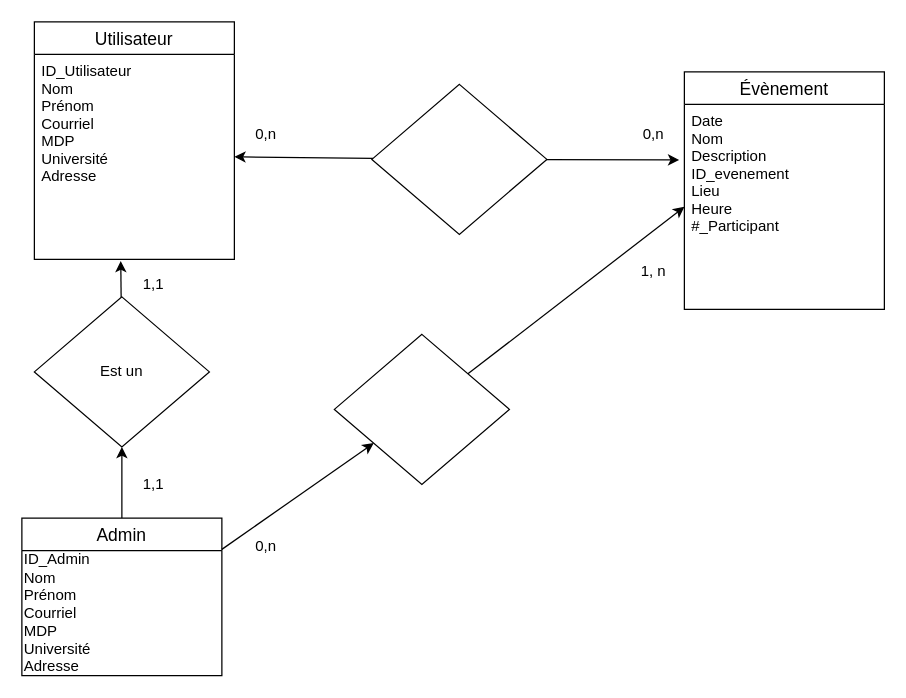
Image size: 906x698. Some labels were removed from this diagram. The centre of each missing label's shape, as x and y in pixels:
"Organise / Est organisé" belongs at [421,408].
"Participe / Contient des" belongs at [459,158].
